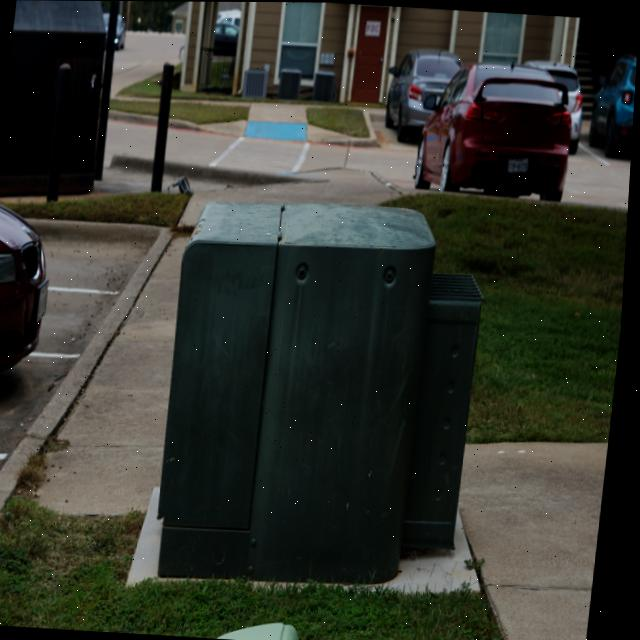Automobile: (416, 63, 577, 200), (0, 203, 52, 374), (387, 48, 463, 141), (525, 59, 585, 153), (592, 53, 638, 156)
Obstacle: (166, 203, 482, 583), (49, 63, 71, 202), (153, 63, 175, 191), (224, 622, 307, 640)
Road: (31, 218, 171, 354), (167, 121, 350, 182), (0, 355, 82, 455), (564, 140, 633, 208), (97, 118, 157, 191), (349, 145, 417, 188)
Sidewalk: (43, 234, 191, 514), (465, 442, 614, 640), (182, 167, 401, 226), (249, 102, 309, 123), (246, 121, 308, 140), (308, 123, 362, 143), (200, 119, 248, 136)
